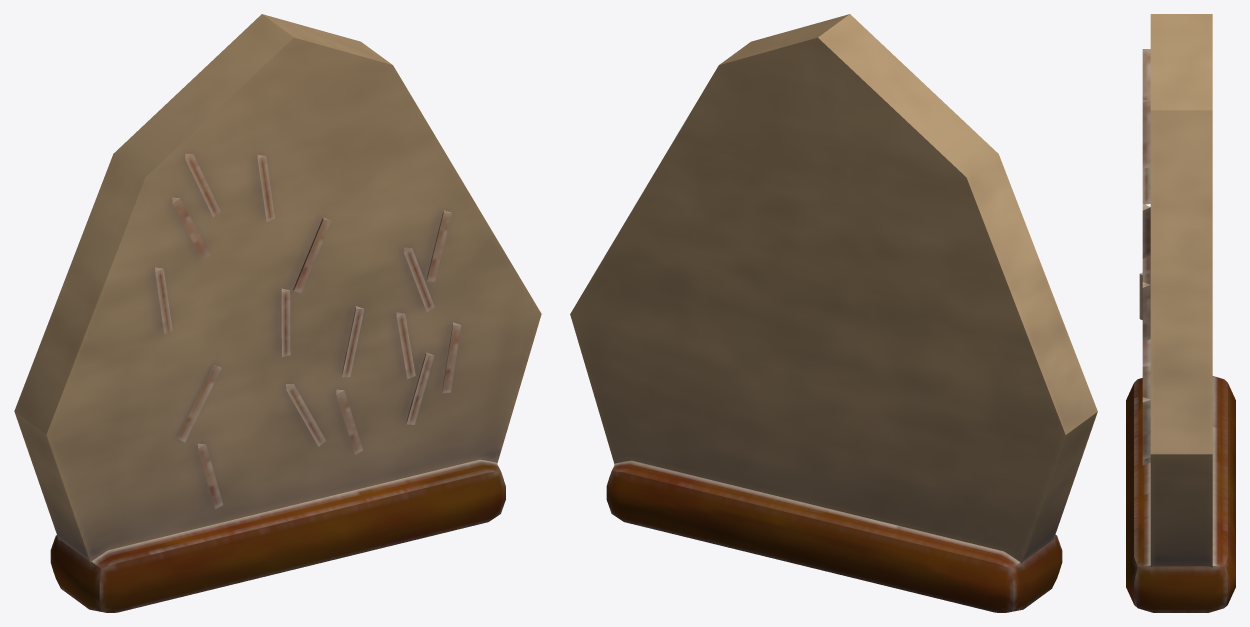
The model's file is armor_plate.glb.
3 renders of one model, left to right at view 1: azimuth 30°, elevation 25°; view 2: azimuth 150°, elevation 25°; view 3: azimuth 270°, elevation 25°, orthographic. The views are drawn at different scales.
Visible parts, largest first — view 1: SM_ArmorPlate; view 2: SM_ArmorPlate; view 3: SM_ArmorPlate.
Part boxes in pixels (left/top/right/bottom): SM_ArmorPlate: left=14, top=14, right=541, bottom=612; SM_ArmorPlate: left=570, top=14, right=1097, bottom=612; SM_ArmorPlate: left=1126, top=14, right=1235, bottom=612.
Size of the model in its own units: 0.4 by 0.41 by 0.08.
2 materials, 2 textured.
